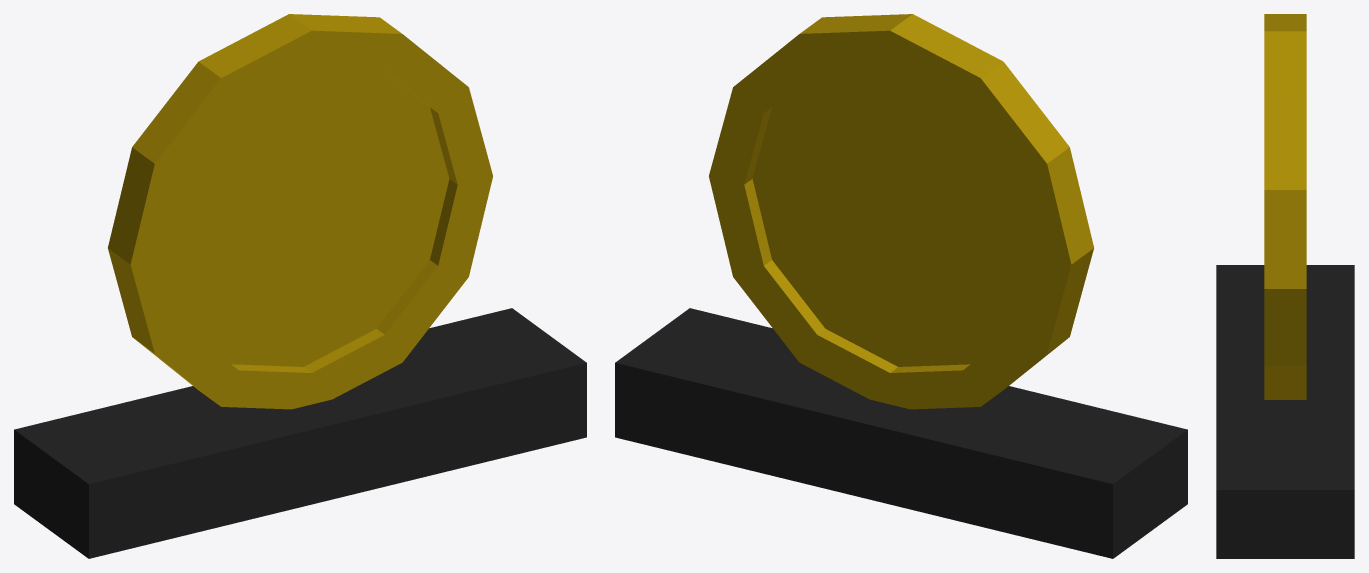
Rendered from TrophyV5Gold.fbx.
3 views of the same model, side by side, from view 1: azimuth 30°, elevation 25°; view 2: azimuth 150°, elevation 25°; view 3: azimuth 270°, elevation 25° (orthographic). The views are drawn at different scales.
Visible parts, largest first — view 1: TrophyV5Gold; view 2: TrophyV5Gold; view 3: TrophyV5Gold.
Boxes of the visible parts, left/top/right/bottom form: TrophyV5Gold: left=14, top=14, right=586, bottom=558; TrophyV5Gold: left=615, top=14, right=1187, bottom=558; TrophyV5Gold: left=1216, top=14, right=1354, bottom=558.
Bounding box in the file's own units: 8.07 × 6.95 × 2.1.
